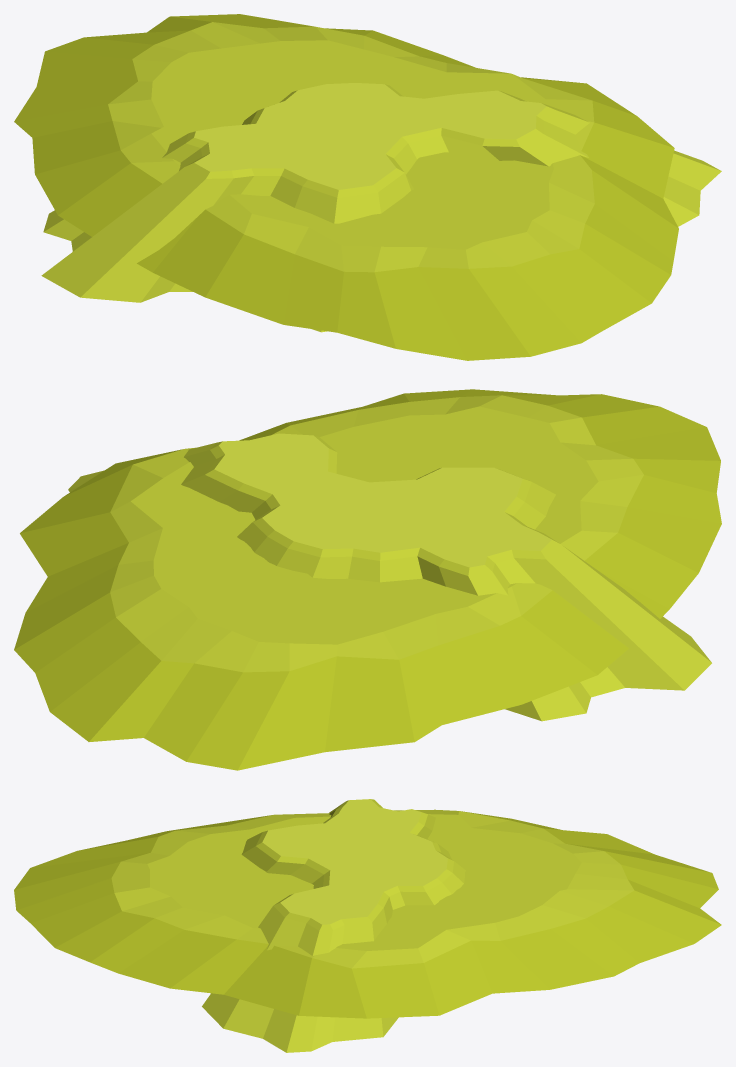
Rendered from island_5.fbx.
3 renders of one model, top to bottom at view 1: azimuth 30°, elevation 25°; view 2: azimuth 150°, elevation 25°; view 3: azimuth 270°, elevation 25°, orthographic. The views are drawn at different scales.
Parts seen in each view (by area): view 1: Sphere, Vert; view 2: Sphere, Vert; view 3: Sphere, Vert.
Boxes of the visible parts, x1=… form: Sphere: x1=14, y1=14, x2=678, y2=360; Vert: x1=41, y1=83, x2=721, y2=332; Sphere: x1=14, y1=389, x2=721, y2=770; Vert: x1=68, y1=433, x2=711, y2=721; Sphere: x1=14, y1=809, x2=721, y2=1018; Vert: x1=202, y1=799, x2=465, y2=1052.
Size of the model in its own units: 6951 by 5595 by 743.
Materials: 1 (1 with a texture image).
